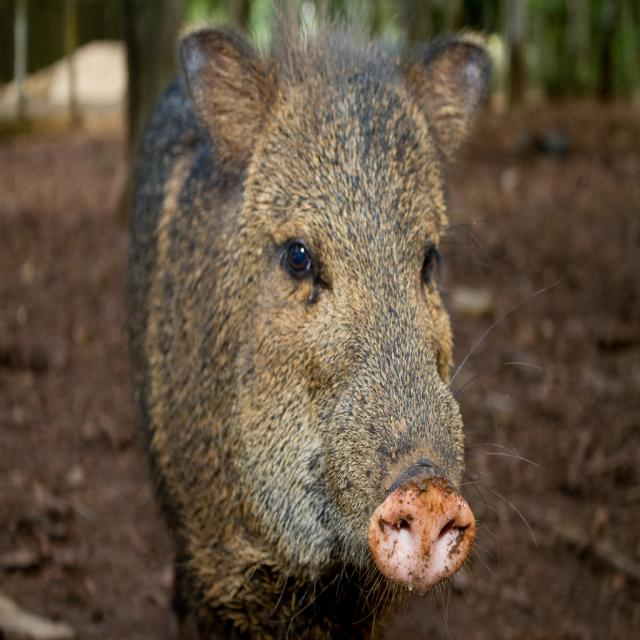Pig: (131, 0, 496, 639)
